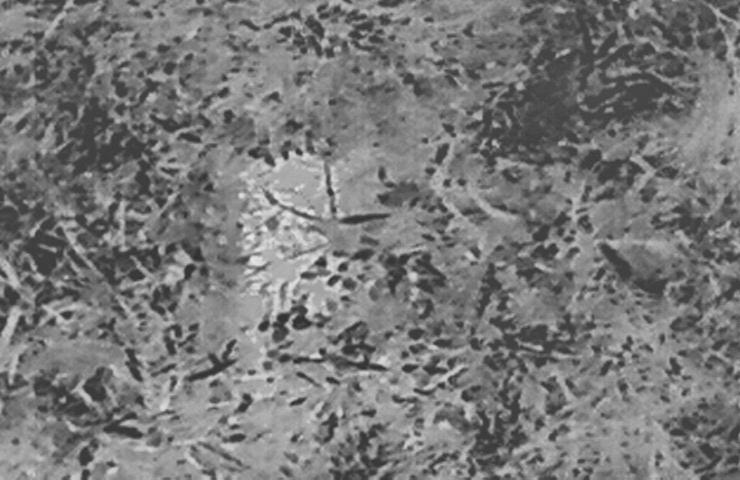landmines: (236, 150, 362, 302)
